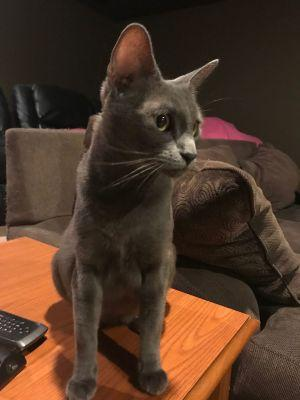rblue: (80, 21, 233, 195)
